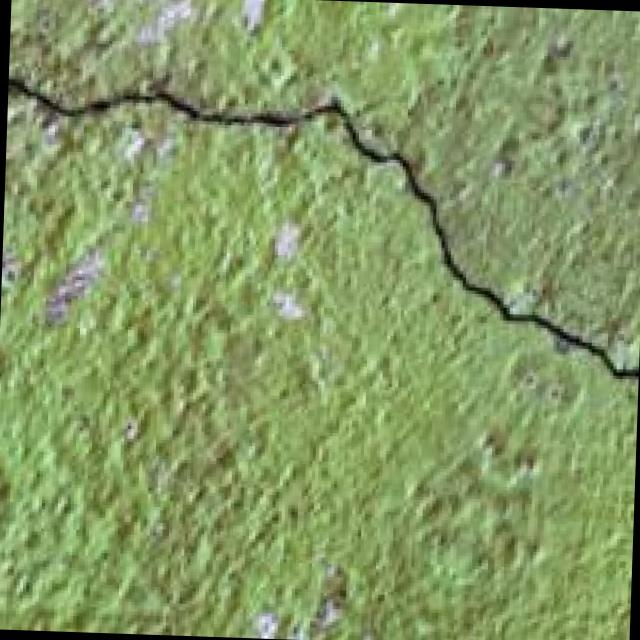crack: (0, 40, 640, 414)
